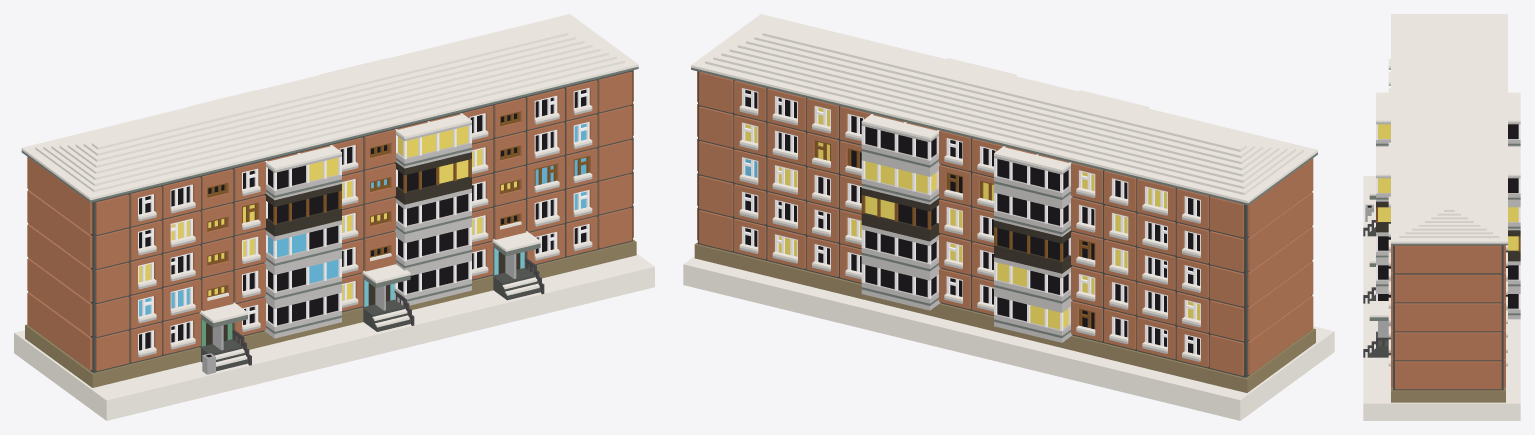
The model's file is panel_mcflower.glb.
3 views of the same model, side by side, from view 1: azimuth 30°, elevation 25°; view 2: azimuth 150°, elevation 25°; view 3: azimuth 270°, elevation 25° (orthographic). The views are drawn at different scales.
Parts seen in each view (by area): view 1: Object_2; view 2: Object_2; view 3: Object_2.
Part boxes in pixels (x1=…): Object_2: x1=14, y1=14, x2=654, y2=420; Object_2: x1=683, y1=14, x2=1334, y2=420; Object_2: x1=1363, y1=14, x2=1520, y2=420.
Bounding box in the file's own units: 40 × 15.97 × 11.7.
Materials: 1 (1 with a texture image).
